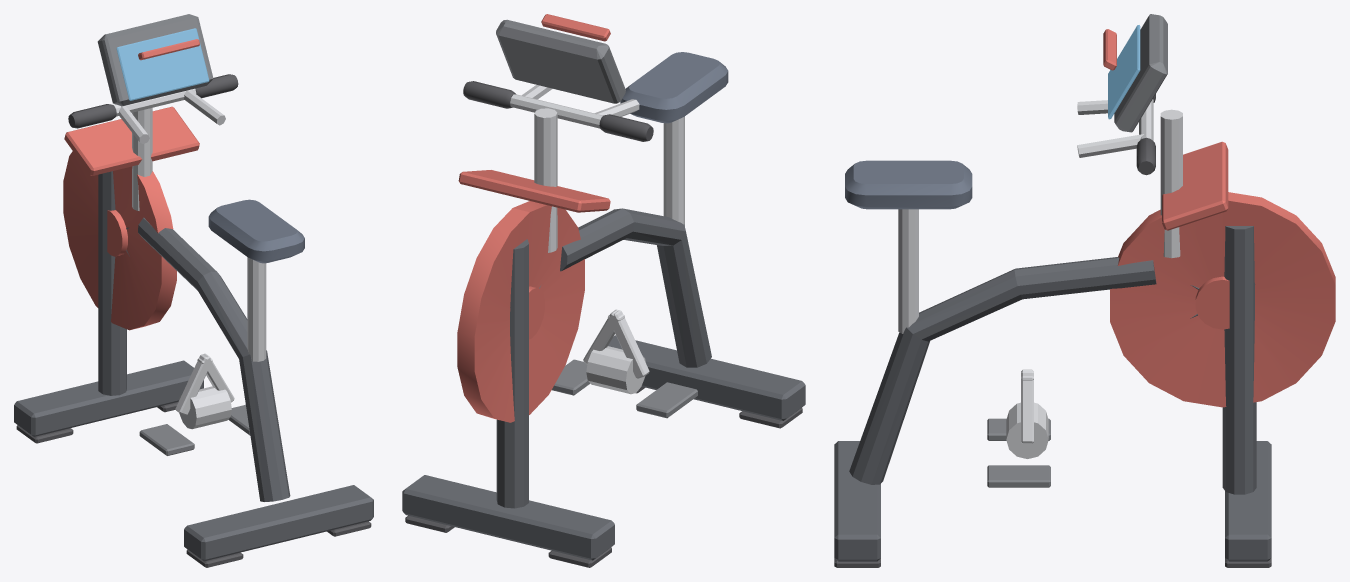
Rendered from spin_bike.glb.
3 renders of one model, left to right at view 1: azimuth 30°, elevation 25°; view 2: azimuth 150°, elevation 25°; view 3: azimuth 270°, elevation 25°, orthographic. The views are drawn at different scales.
Parts seen in each view (by area): view 1: spin-bike, flywheel/accent, console/screen, console/dark, console/accent; view 2: spin-bike, flywheel/accent, console/dark, console/accent; view 3: spin-bike, flywheel/accent, console/dark, console/screen.
Boxes of the visible parts, <box> form: spin-bike: <box>14,74,373,567</box>; flywheel/accent: <box>63,151,176,330</box>; console/screen: <box>116,28,209,100</box>; console/dark: <box>97,14,213,106</box>; console/accent: <box>138,39,199,60</box>; spin-bike: <box>402,52,805,567</box>; flywheel/accent: <box>457,201,584,422</box>; console/dark: <box>496,19,625,103</box>; console/accent: <box>541,14,610,41</box>; spin-bike: <box>834,94,1271,567</box>; flywheel/accent: <box>1110,192,1335,407</box>; console/dark: <box>1114,14,1167,132</box>; console/screen: <box>1108,25,1140,119</box>.
Bounding box in the file's own units: 0.54 × 1.26 × 1.18.
